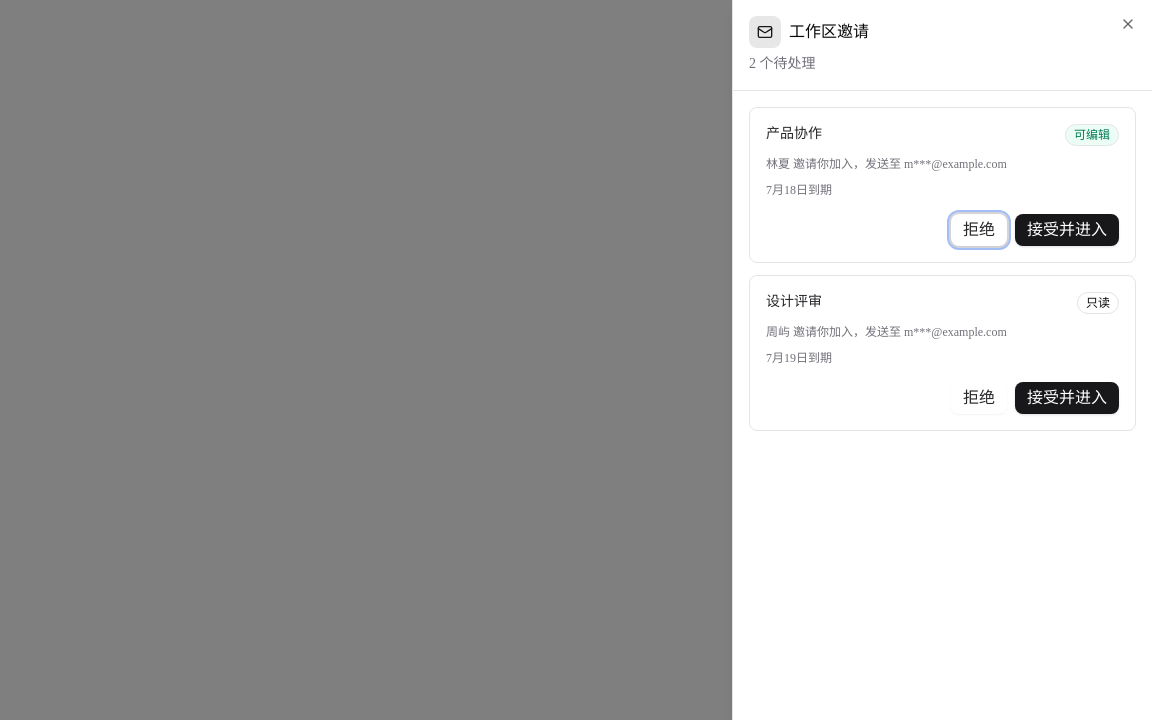
Test: WorkspaceInvitationCenter › shows the pending count and locks only the selected item
Expected: the text "2 个待处理" is shown, left=749, top=56, right=816, bottom=71
Step 1. Click the button "接受并进入" below "7月18日" → (1067, 230), box left=1015, top=214, right=1119, bottom=246
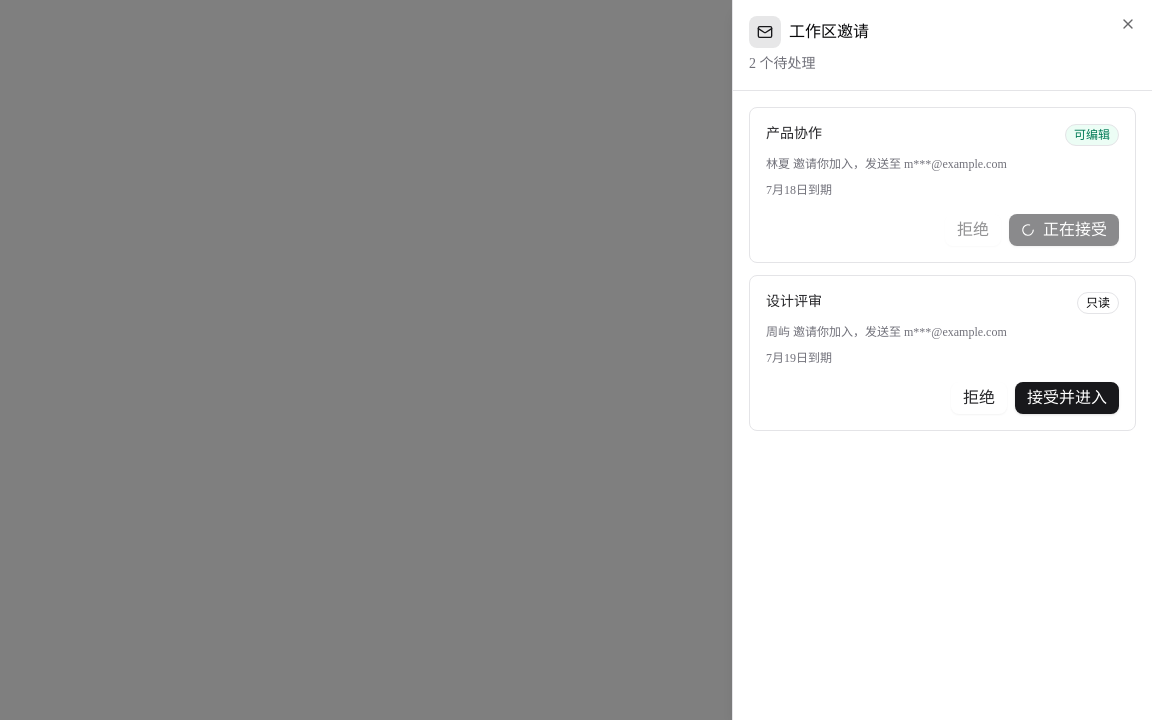
Expected: the button "接受并进入" is enabled, left=1015, top=382, right=1119, bottom=414
Now the button with aria-label "接受并进入" is disabled, box left=1009, top=214, right=1119, bottom=246
